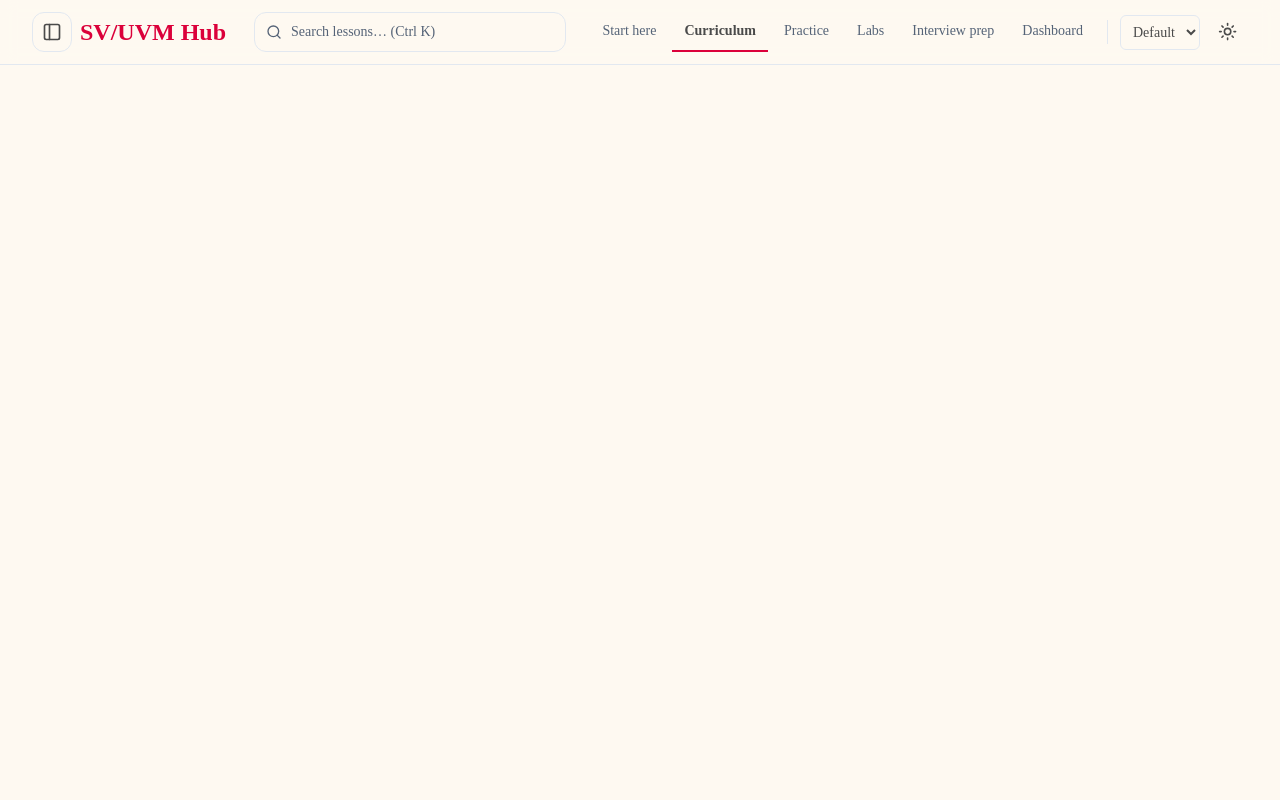
Test: course outline button › has one name for every width and reports the drawer state (G30-SIDE-08)
The image size is (1280, 800).
Click the button named "Course outline": {"x": 52, "y": 32} [32,12,72,52]
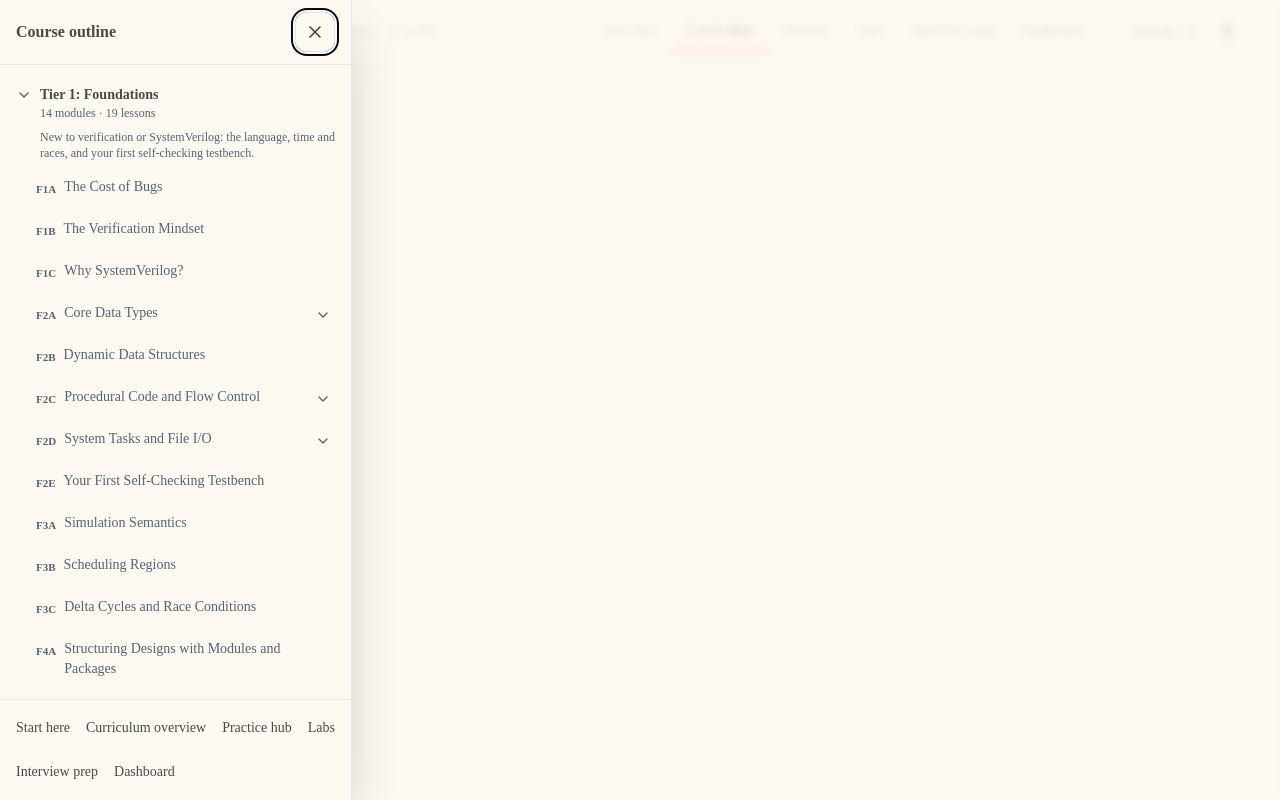
Now the button named "Course outline" is expanded, box [32,12,72,52]
Press Escape
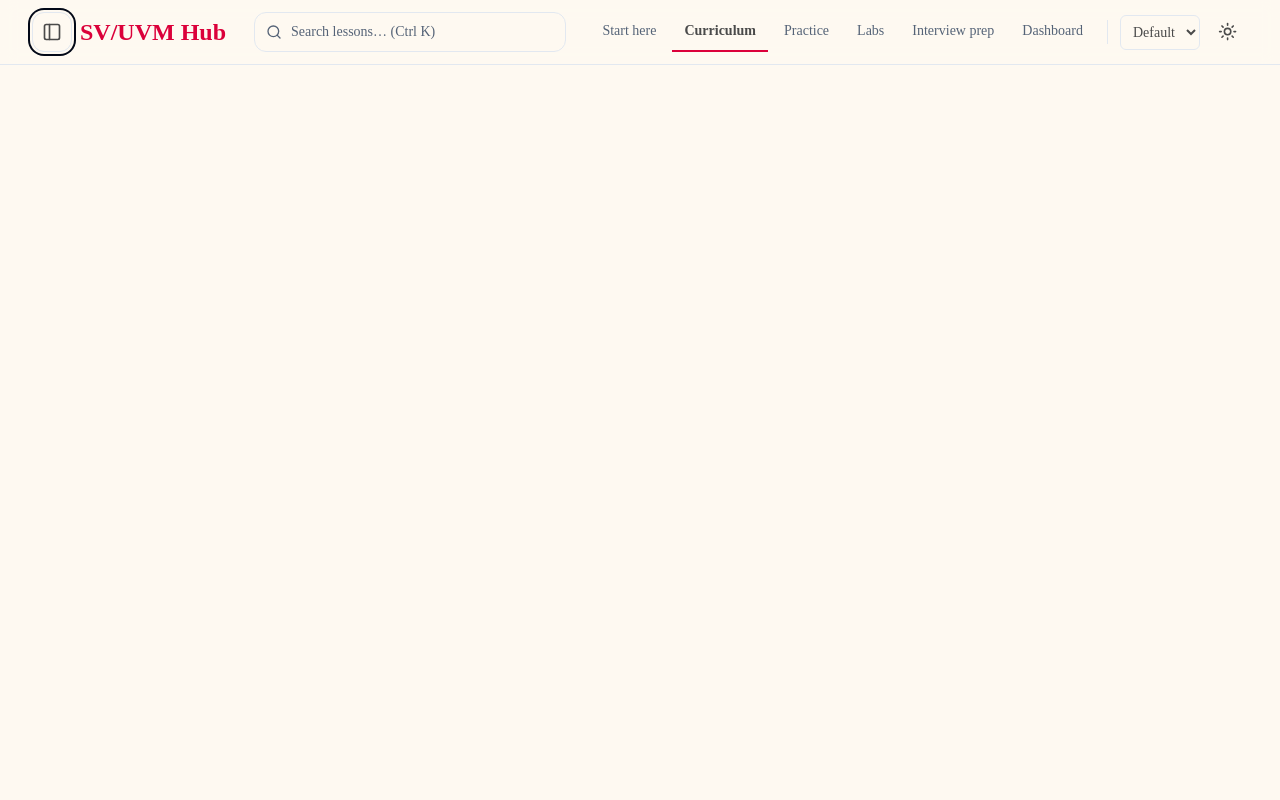
Now the dialog is gone
Now the button named "Course outline" is collapsed, box [32,12,72,52]
